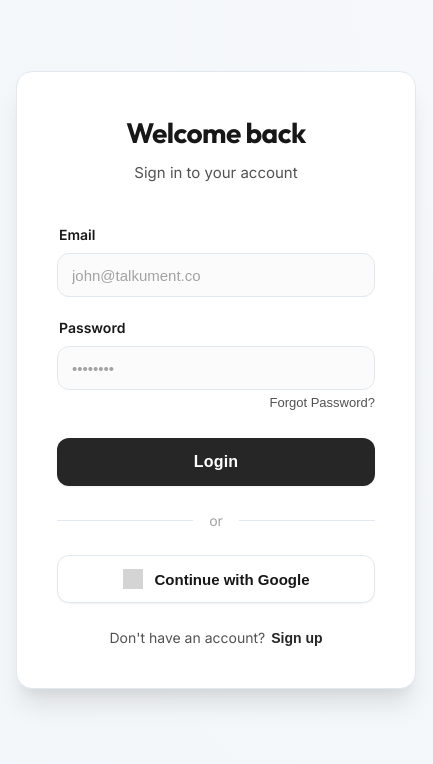
Test case: AuthPage › handles API error with 'errors' as simple strings
The width and height of the screenshot is (433, 764).
In the field with placeholder "john@talkument.co": point(216, 275) 57,253 -> 375,297, type "test@mail.com"
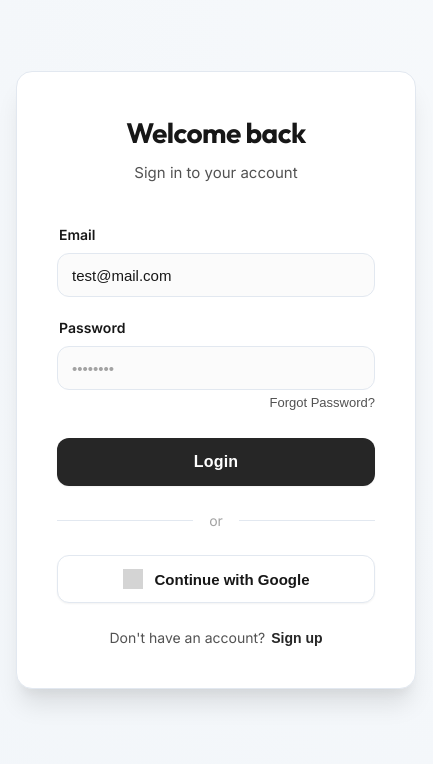
In the password field with placeholder "••••••••": point(216, 368) 57,346 -> 375,390, type "123456"
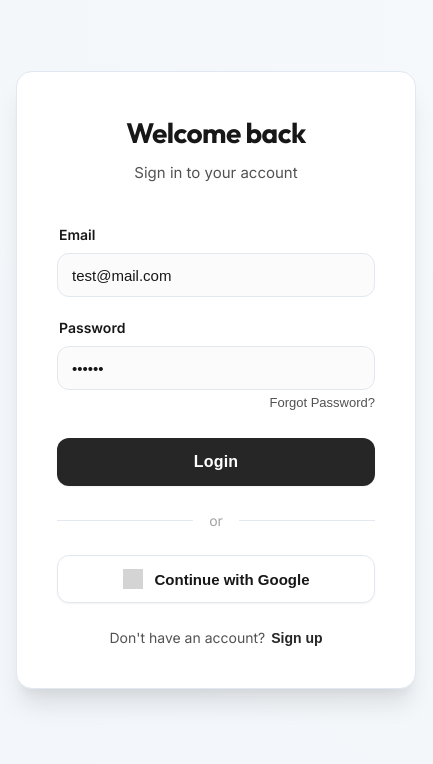
Click the button "Login": point(216, 462) 57,438 -> 375,486
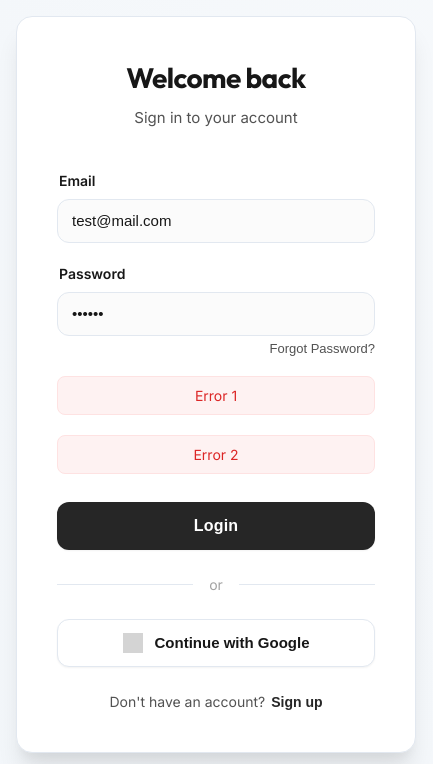
Now the text "Error 1" is shown, box 57,376 -> 375,414
Now the text "Error 2" is shown, box 57,434 -> 375,474
